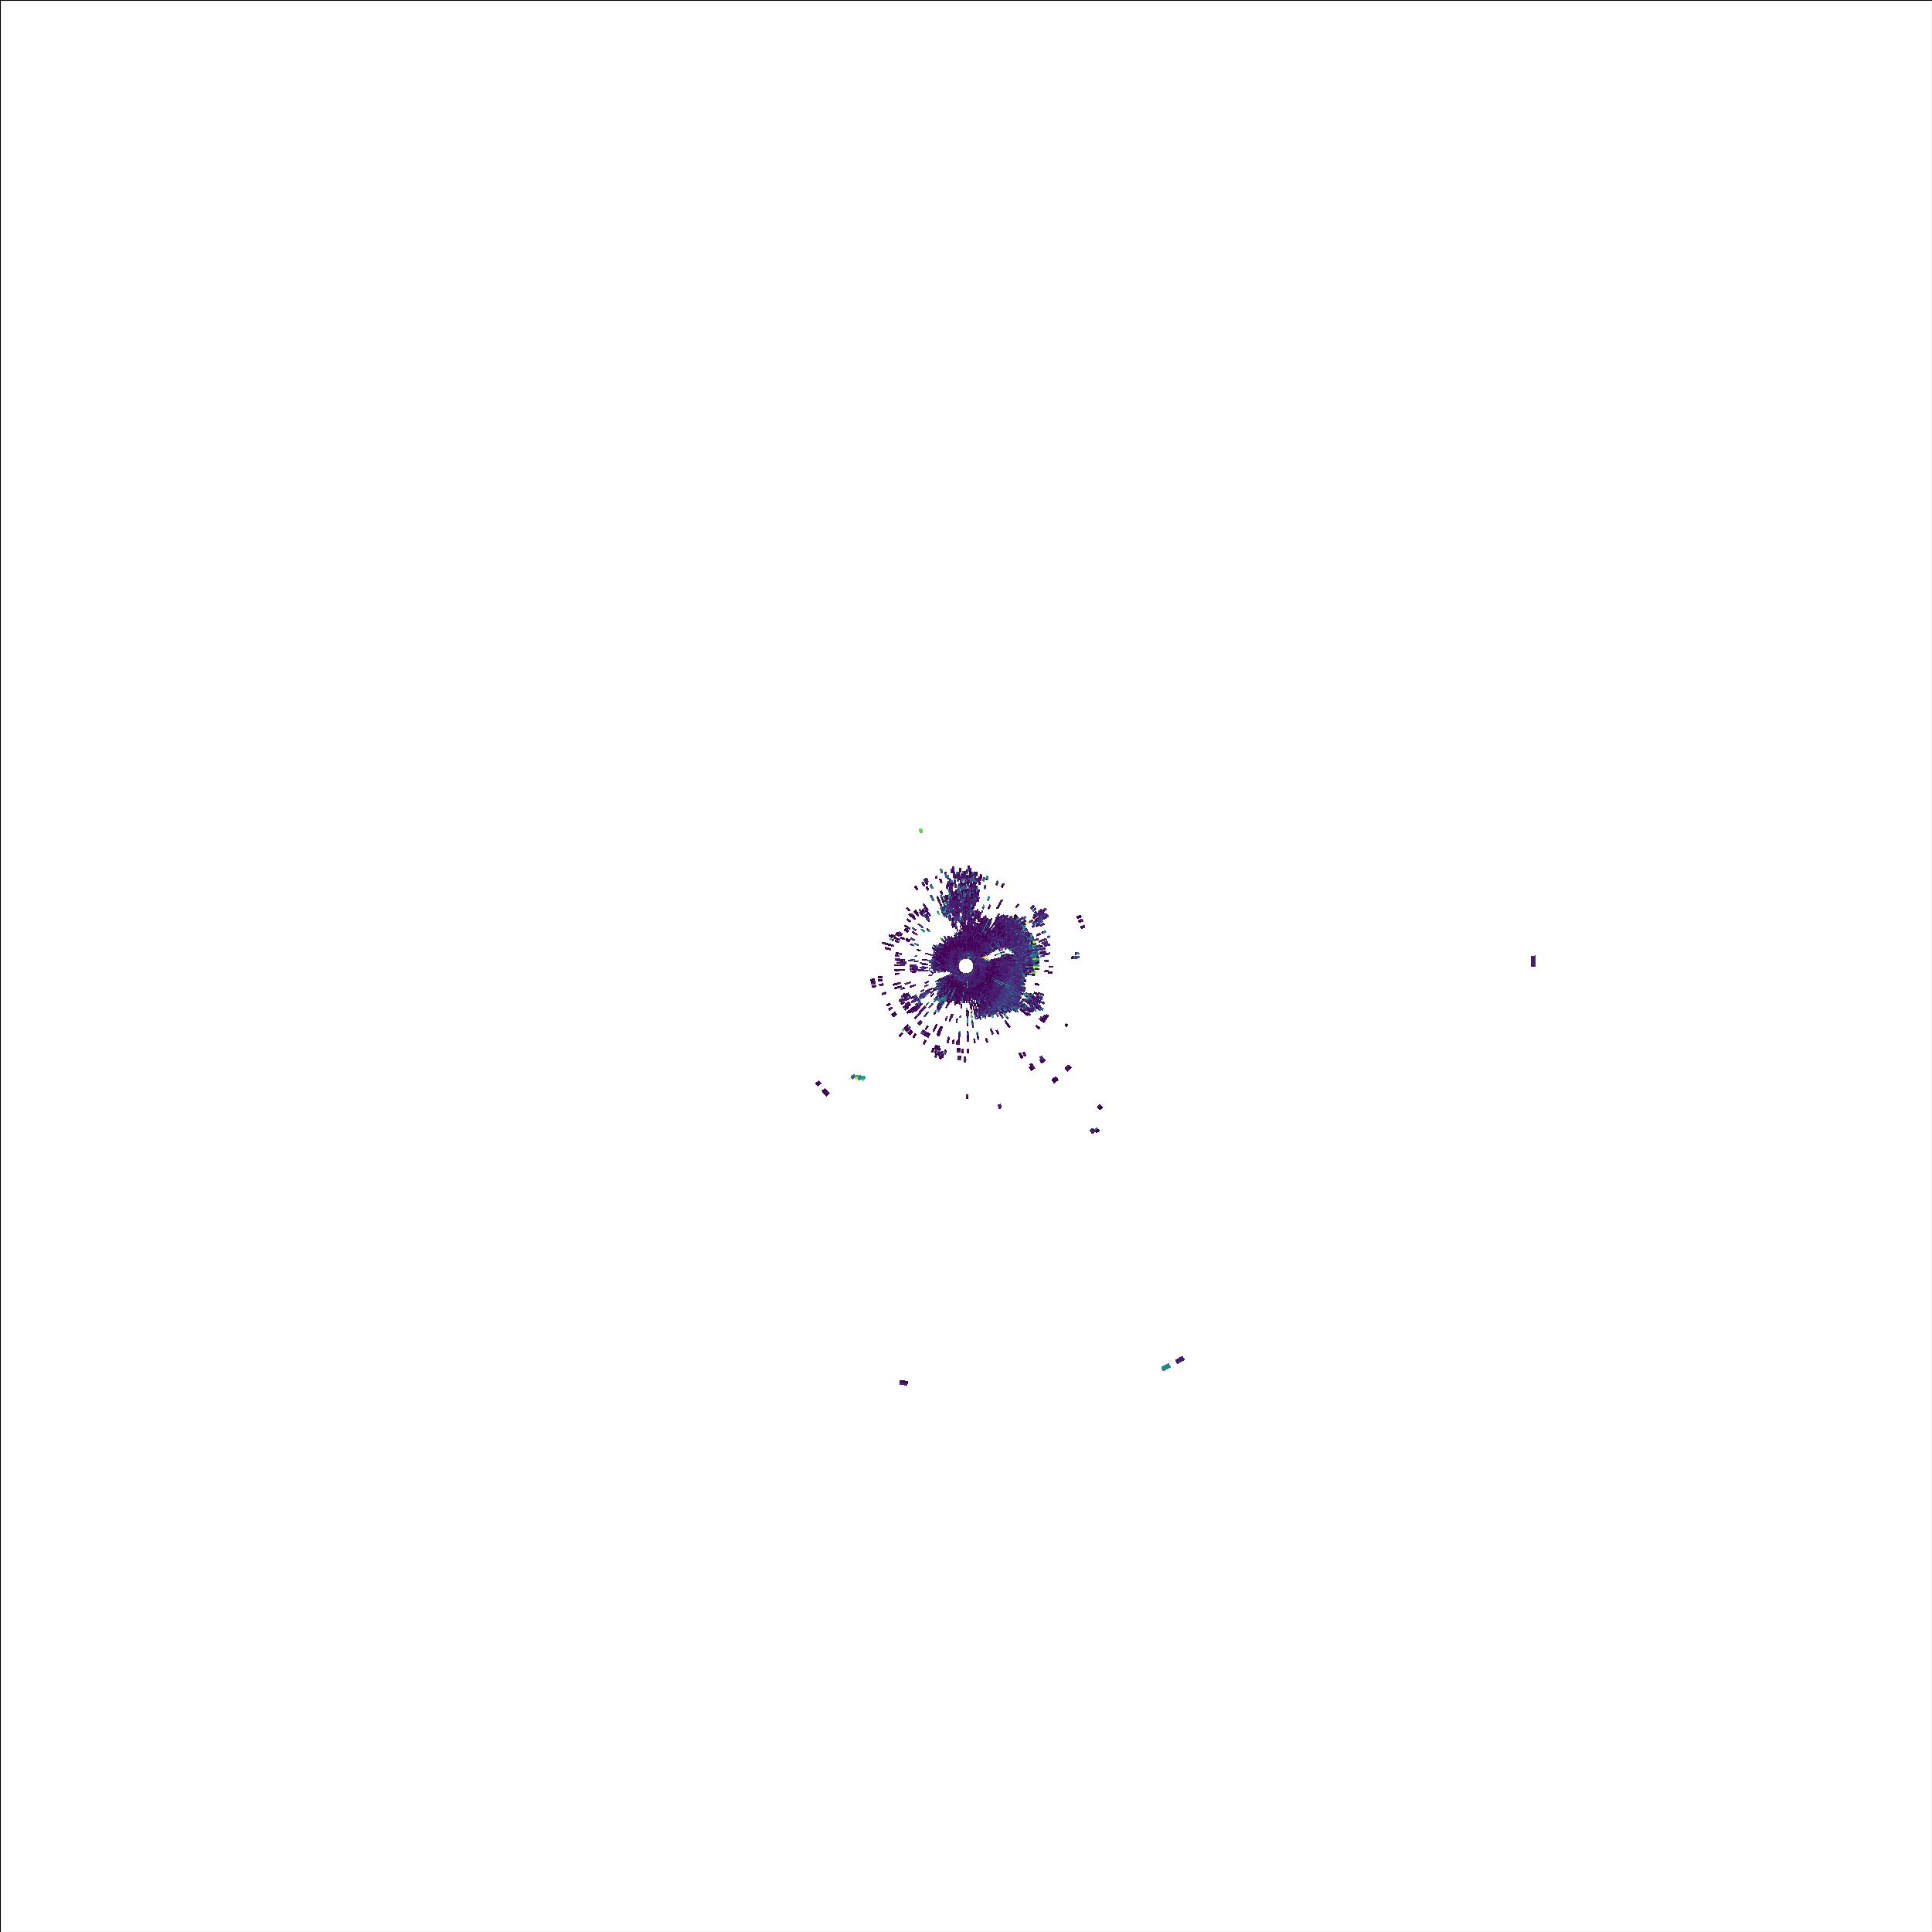fall: (847, 1070, 869, 1085)
